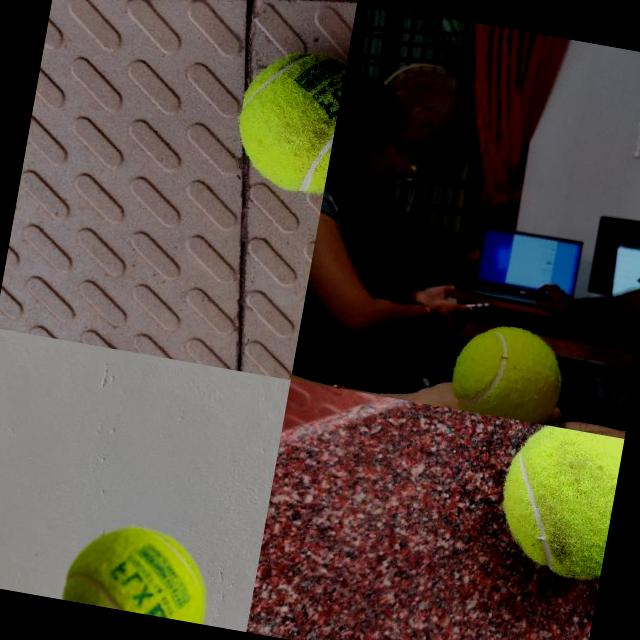Tennis Ball: (490, 420, 624, 582), (228, 42, 347, 196), (60, 514, 218, 624), (447, 316, 570, 426)
